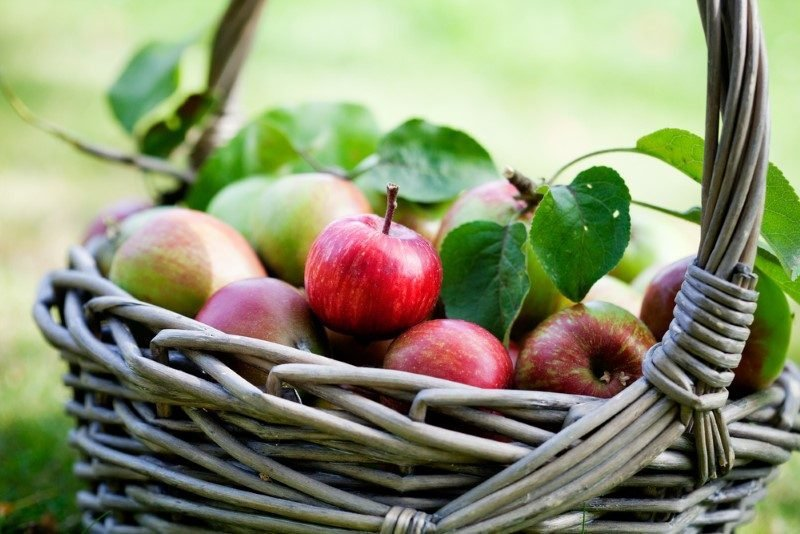elma: (317, 214, 441, 335)
